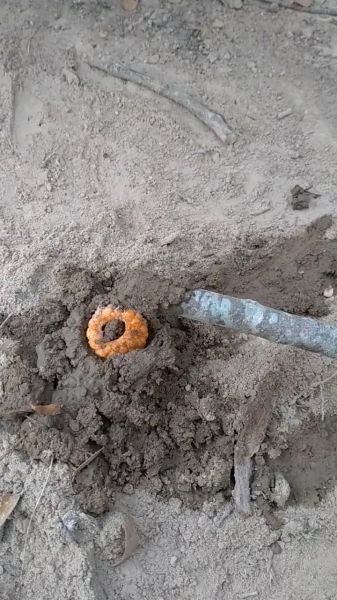eggs: (78, 301, 153, 364)
